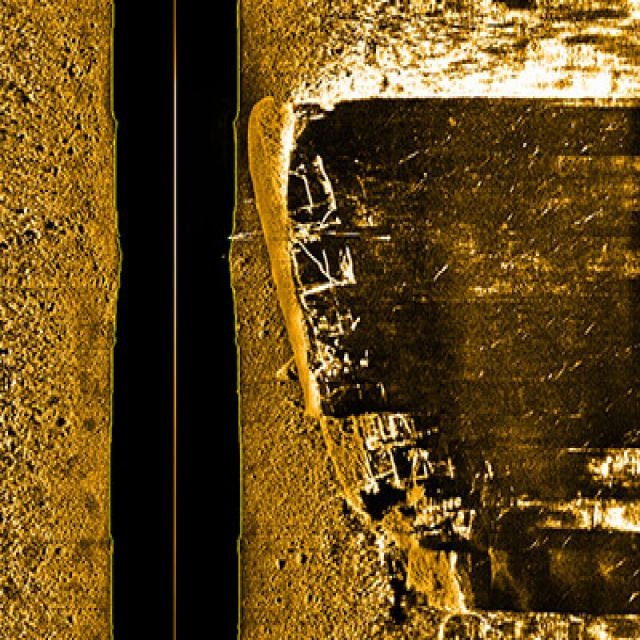ship: (248, 94, 477, 601)
